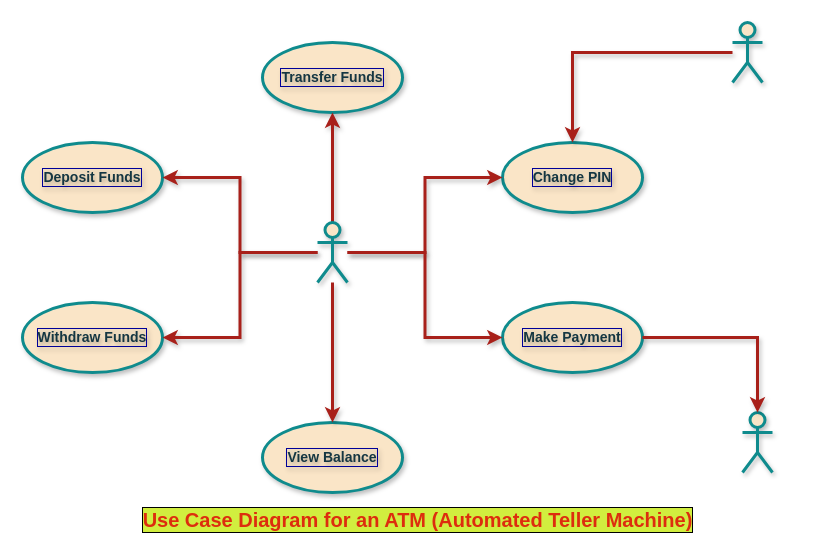
Image size: 823x550. Some labels were removed from this diagram. The centre of each missing label's shape, as x and y in pixels:
"Actor" belongs at point 333,253.
"Bank Officer" belongs at point 748,53.
"Credit System" belongs at point 758,443.
